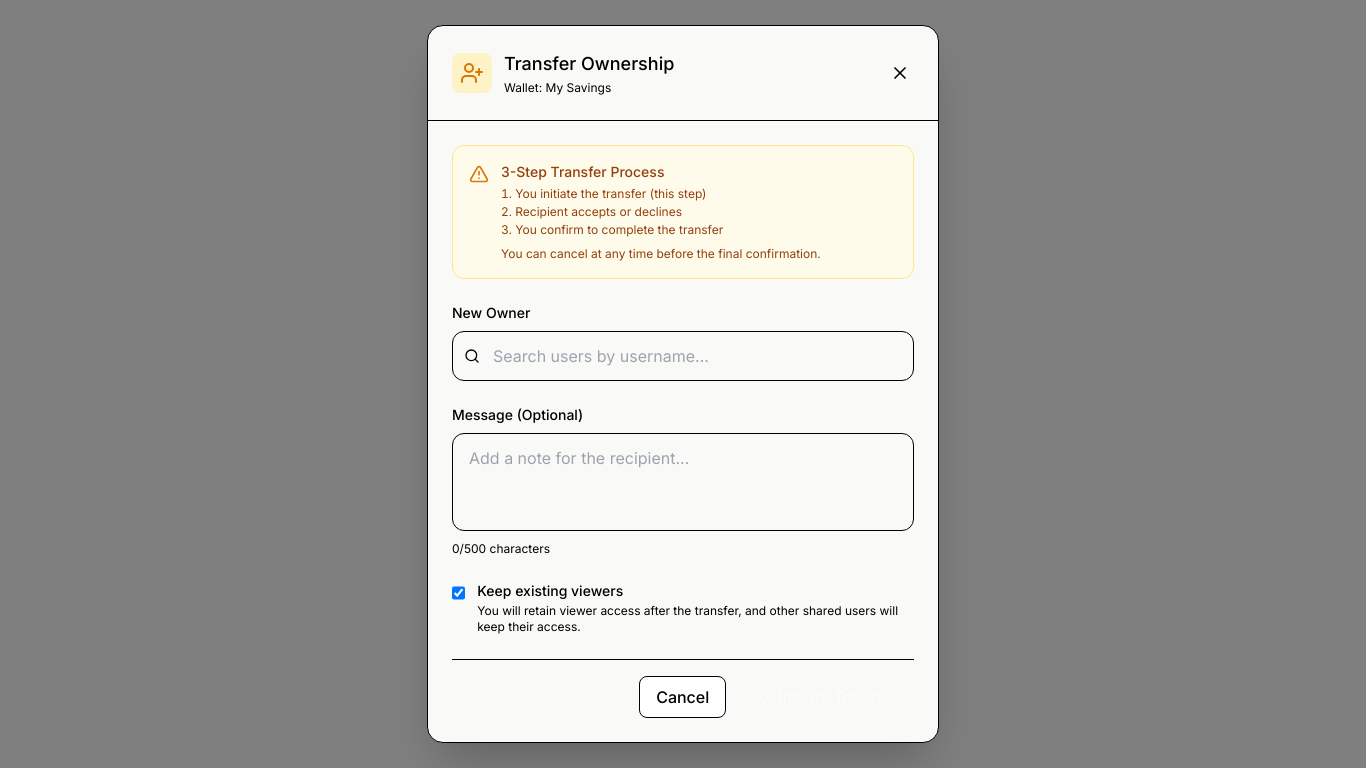
Test: TransferOwnershipModal › user selection › clears selection when clicking X
Type "alice" into the field with placeholder "Search users by username...".
click(683, 356); type("alice")  # box [452,331,914,381]
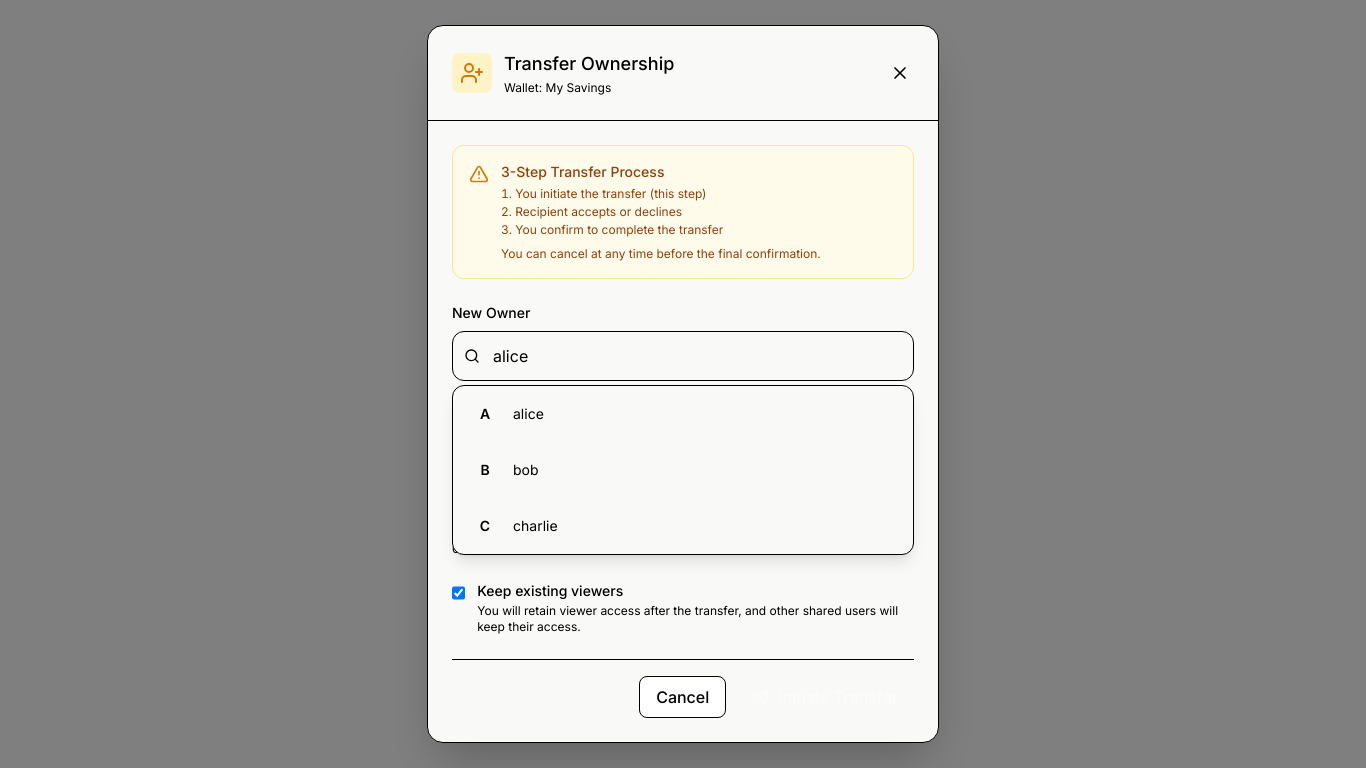
Now the text "alice" is shown
Click the text "alice".
click(528, 414)  # box [513,404,544,424]
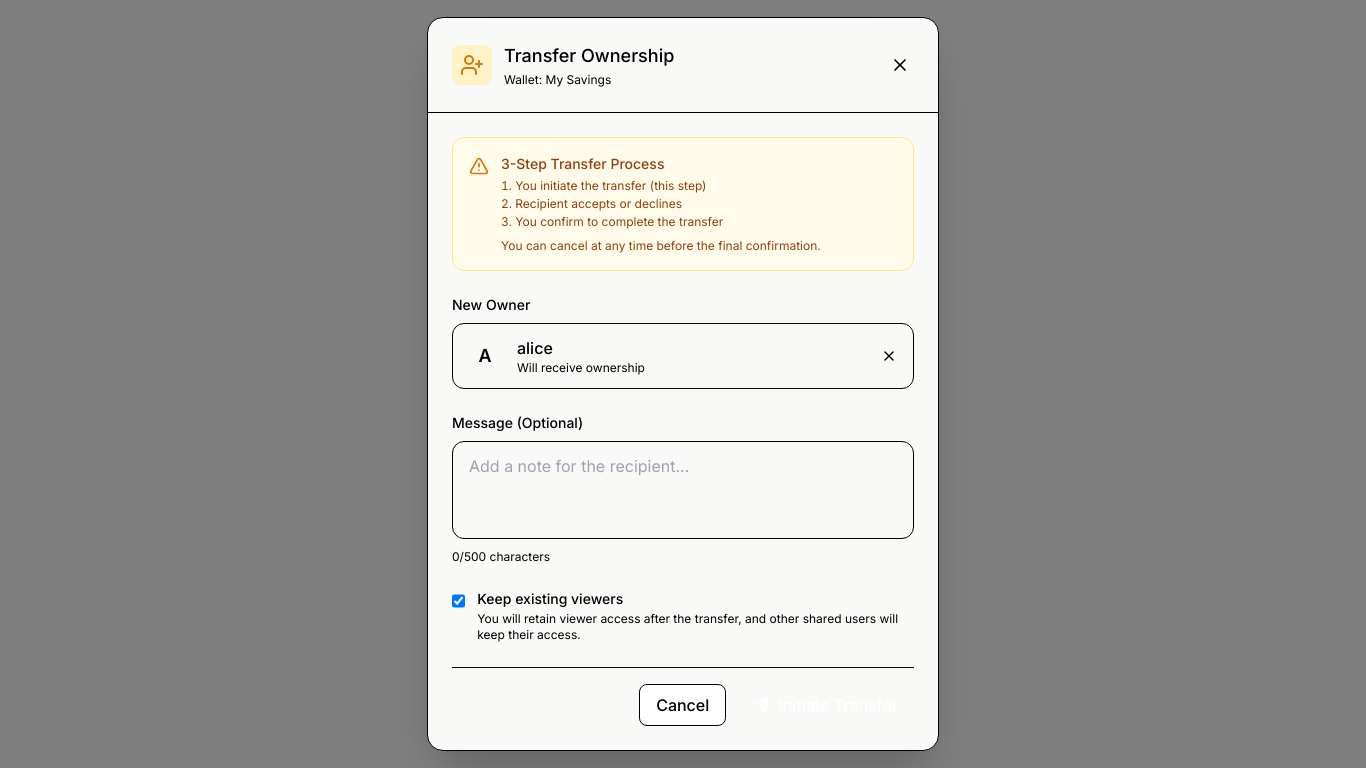
Now the text "Will receive ownership" is shown, box [517,360,645,376]
Click the button without text in the row of "Will receive ownership".
click(889, 356)  # box [877,344,901,368]
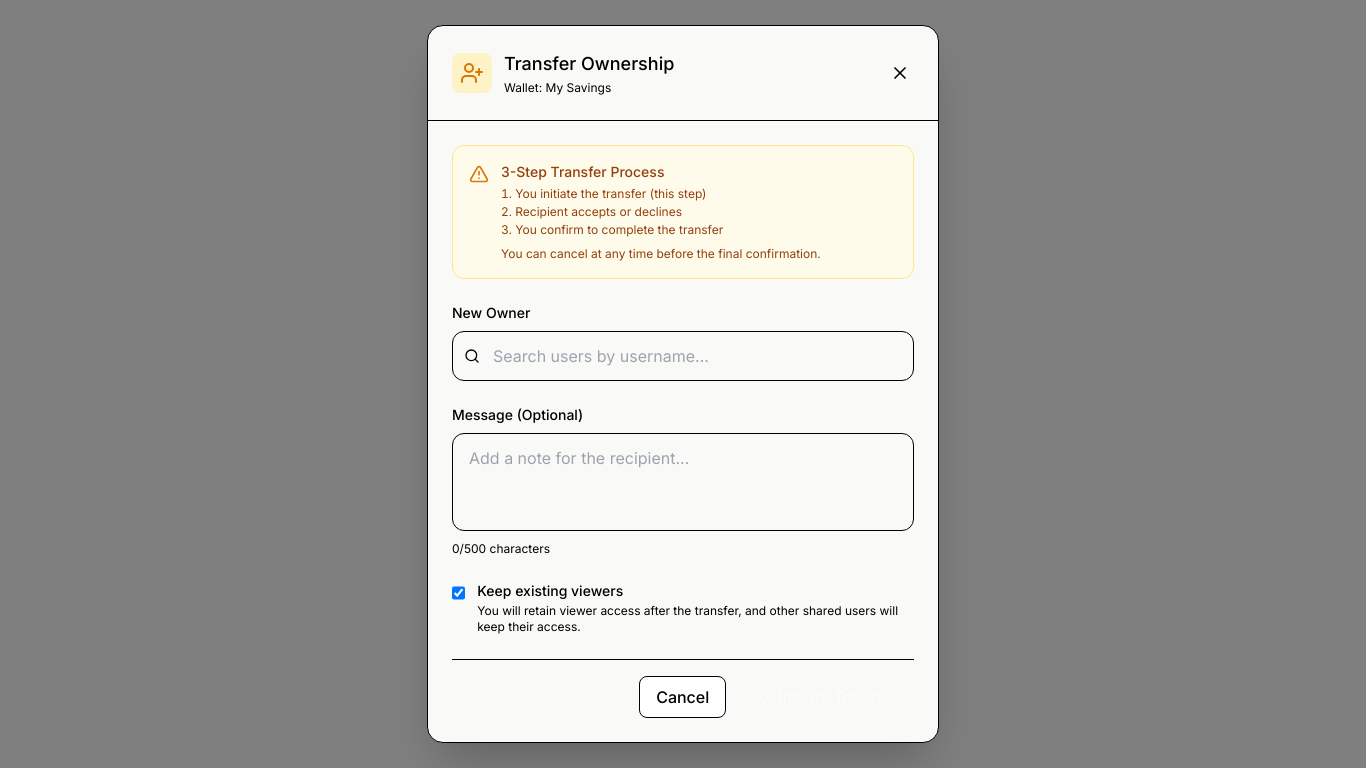
Now the field with placeholder "Search users by username..." is shown, box [452,331,914,381]
